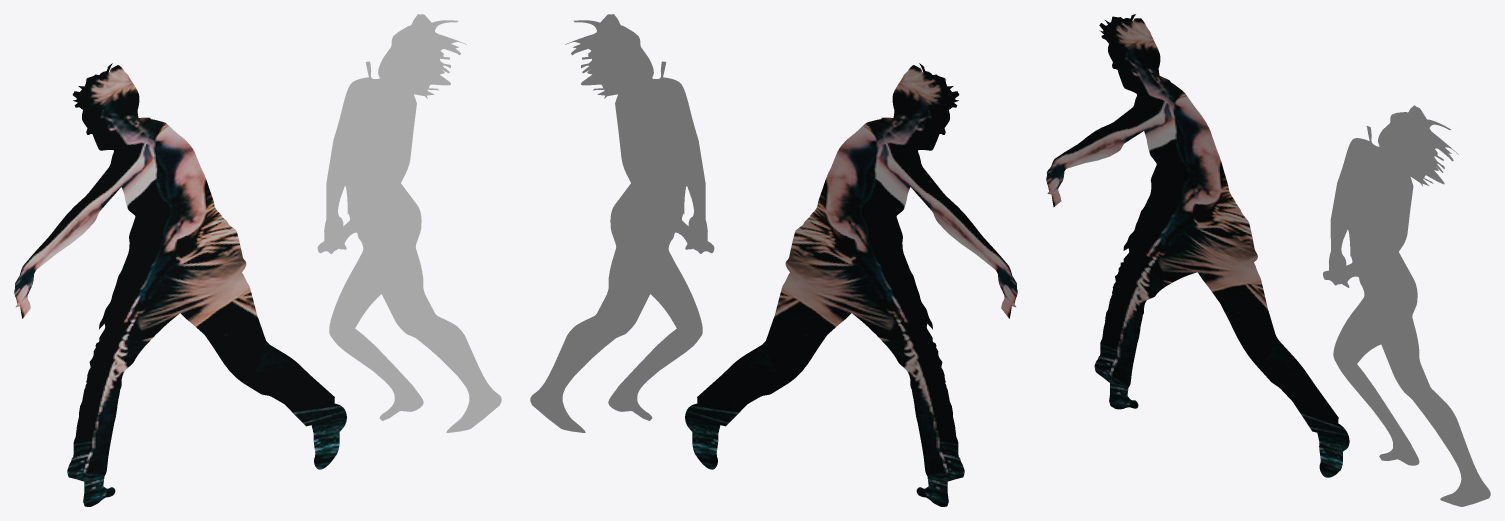
The model's file is sunline.dae.
The picture shows the model from 3 angles, left to right: view 1: azimuth 30°, elevation 25°; view 2: azimuth 150°, elevation 25°; view 3: azimuth 330°, elevation 25°; orthographic projection. The views are drawn at different scales.
Visible parts, largest first — view 1: Extrude, Extrude.1; view 2: Extrude, Extrude.1; view 3: Extrude, Extrude.1.
Boxes of the visible parts, x1=… form: Extrude: x1=14, y1=63, x2=346, y2=506; Extrude.1: x1=317, y1=14, x2=501, y2=432; Extrude: x1=685, y1=63, x2=1017, y2=506; Extrude.1: x1=530, y1=14, x2=714, y2=432; Extrude: x1=1046, y1=14, x2=1349, y2=477; Extrude.1: x1=1323, y1=105, x2=1490, y2=506.
Bounding box in the file's own units: 457 × 410 × 0.
1 material, 1 textured.
